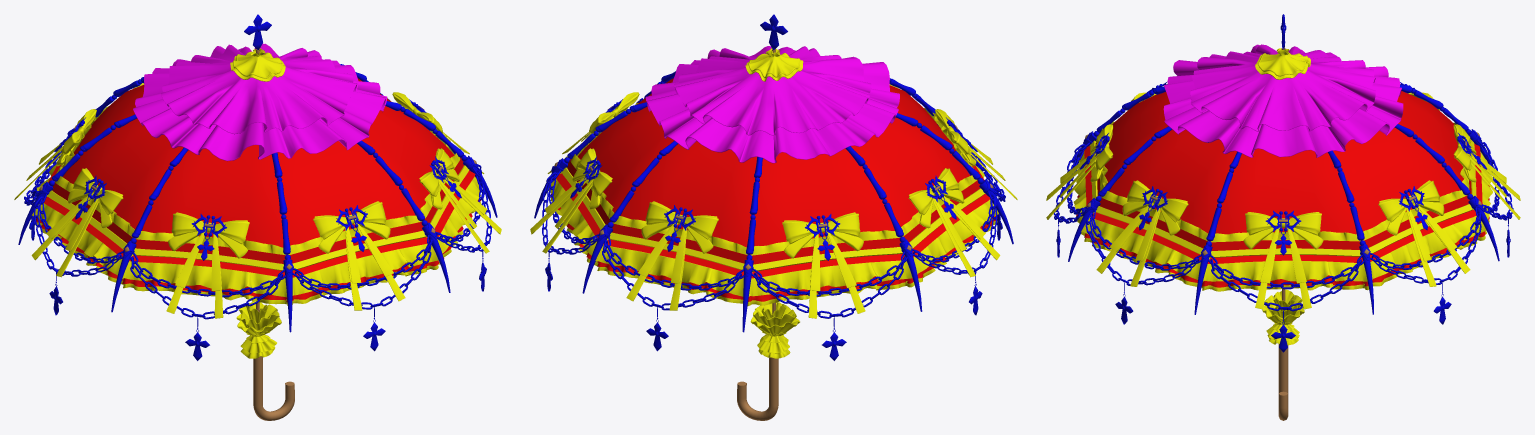
The model's file is ReapersDaughter_Umbrella.fbx.
3 renders of one model, left to right at view 1: azimuth 30°, elevation 25°; view 2: azimuth 150°, elevation 25°; view 3: azimuth 270°, elevation 25°, orthographic. The views are drawn at different scales.
Parts seen in each view (by area): view 1: Umbrella; view 2: Umbrella; view 3: Umbrella.
Boxes of the visible parts, box(x1,y1,x2,y2) form: Umbrella: box(14, 14, 501, 420); Umbrella: box(530, 14, 1017, 420); Umbrella: box(1046, 14, 1520, 420).
Bounding box in the file's own units: 103 × 95.17 × 103.
